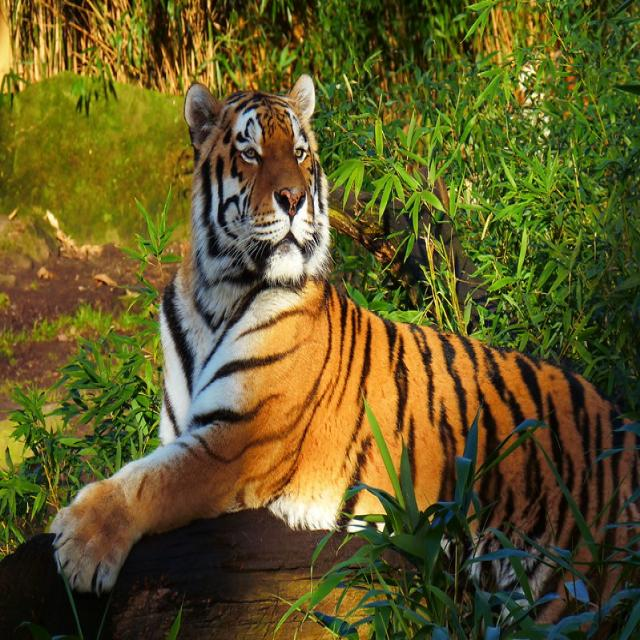Tiger: (45, 71, 638, 627)
